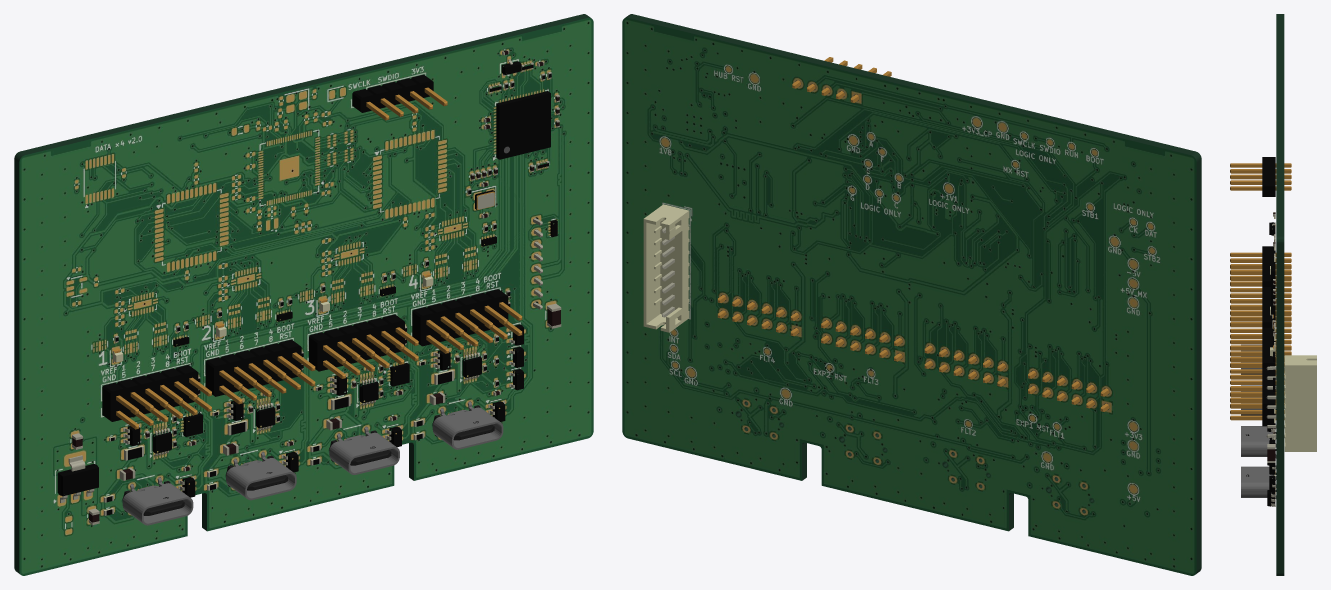
File: data-port-x4-v2-base.glb
The picture shows the model from 3 angles, left to right: view 1: azimuth 30°, elevation 25°; view 2: azimuth 150°, elevation 25°; view 3: azimuth 270°, elevation 25°; orthographic projection. The views are drawn at different scales.
Bounding box in the file's own units: 100 × 70 × 16.22.
20 materials, 2 textured.
